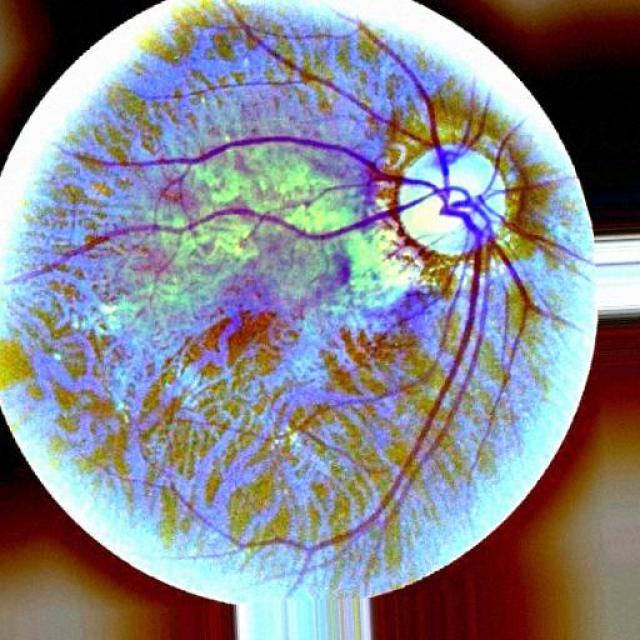Nerves: (61, 39, 589, 538), (201, 21, 421, 142)
Optic Disk: (376, 142, 514, 279)
